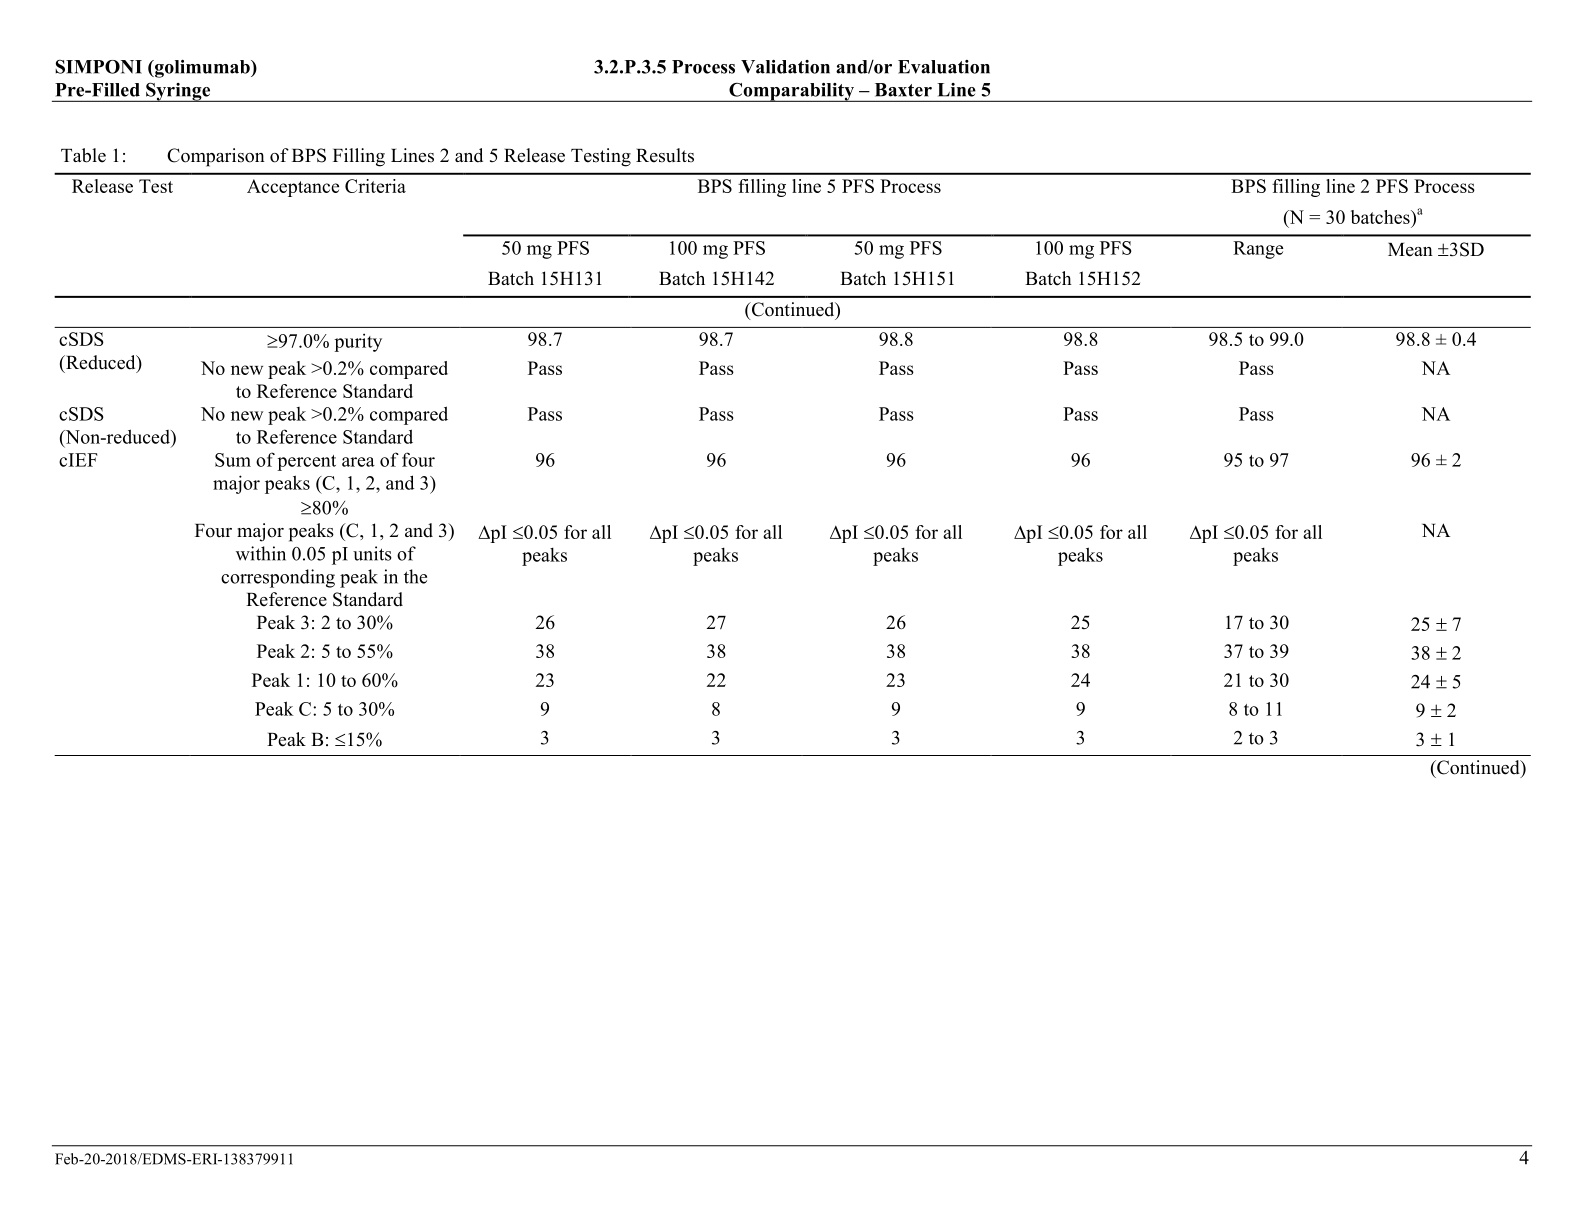partial_lined_merged_cells: (51, 170, 1534, 757)
